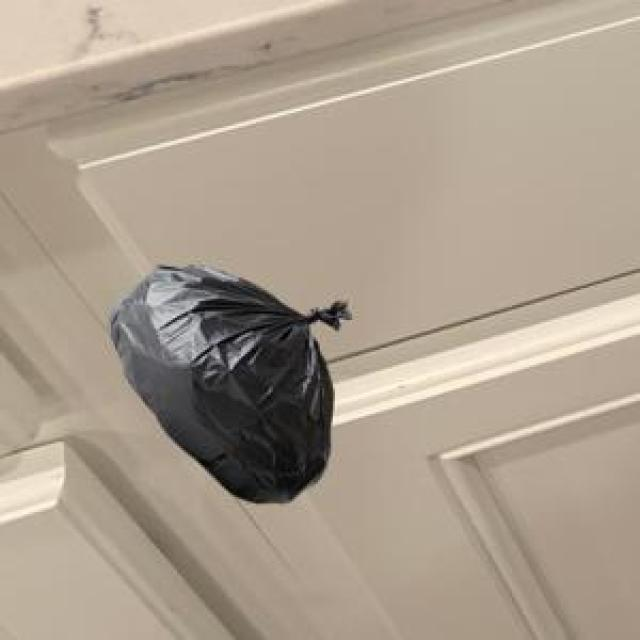miscellaneous trash: (105, 262, 348, 499)
